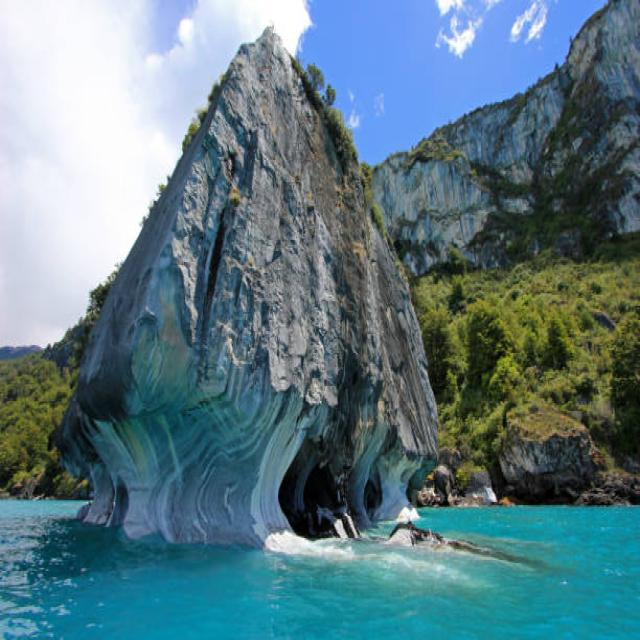Metamorphic: (68, 17, 452, 541)
